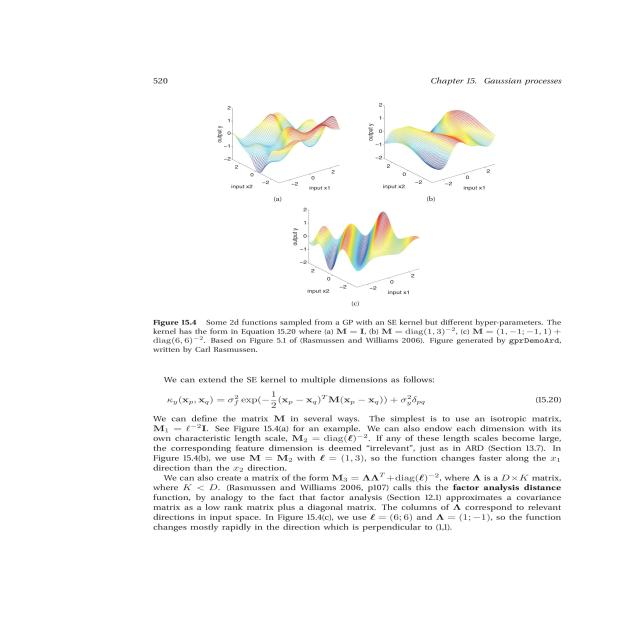diagram: (130, 83, 582, 360)
